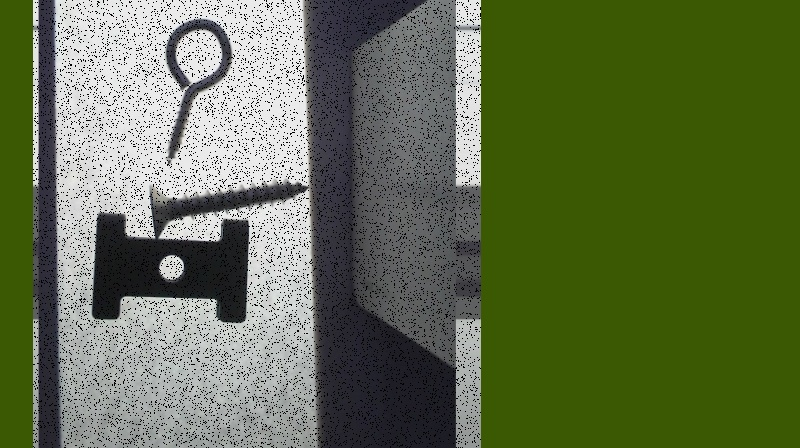O001: (164, 15, 232, 168)
O002: (90, 211, 251, 323)
S001: (149, 177, 308, 237)
